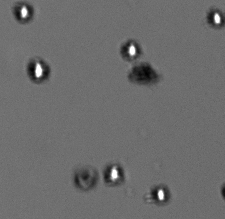Dead Cell: (128, 62, 158, 84), (75, 164, 98, 191)
Living Cell: (27, 57, 49, 83), (13, 1, 34, 23), (120, 40, 142, 60), (105, 162, 124, 184), (152, 183, 171, 204), (207, 7, 223, 27)
